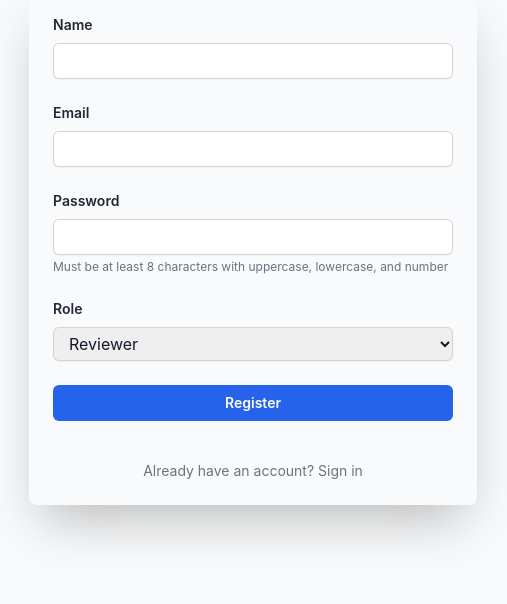
Scenario: RegisterForm › should show error message on registration failure
In the field labelled "Name": (253, 61) [53, 43, 453, 79], type "John Doe"
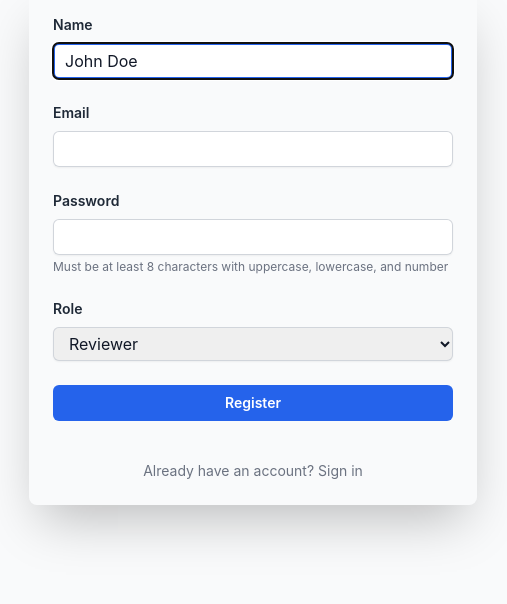
In the field labelled "Email": (253, 149) [53, 131, 453, 167], type "existing@example.com"
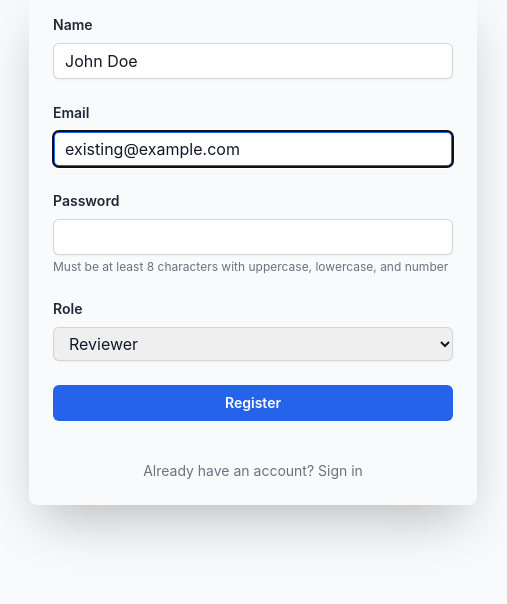
In the password field labelled "Password": (253, 237) [53, 219, 453, 255], type "Password123"
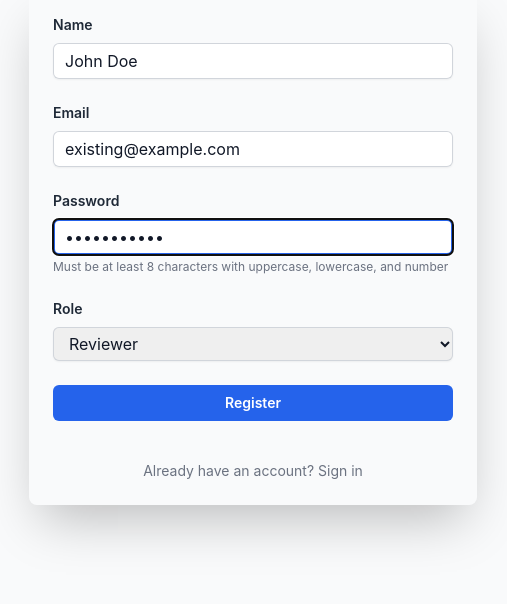
Click the button "Register": (253, 403) [53, 385, 453, 421]
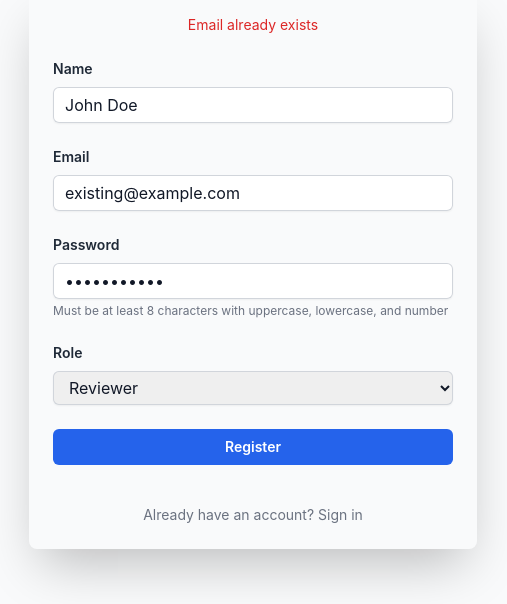
Expected: the text "Email already exists" is shown, [188, 16, 318, 33]
